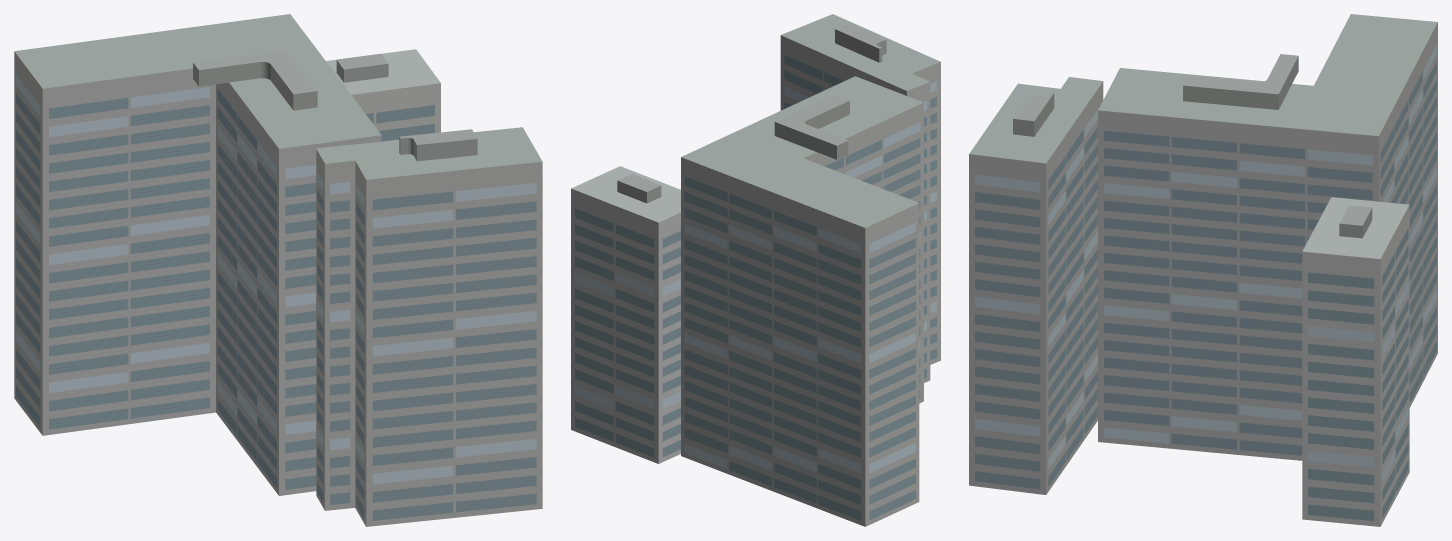
Rendered from apt-a15882104.glb.
3 views of the same model, side by side, from view 1: azimuth 30°, elevation 25°; view 2: azimuth 150°, elevation 25°; view 3: azimuth 270°, elevation 25° (orthographic). The views are drawn at different scales.
Parts seen in each view (by area): view 1: apt-a15882104; view 2: apt-a15882104; view 3: apt-a15882104.
Boxes of the visible parts, left/top/right/bottom form: apt-a15882104: left=14, top=14, right=542, bottom=526; apt-a15882104: left=571, top=14, right=940, bottom=526; apt-a15882104: left=969, top=14, right=1437, bottom=526.
Size of the model in its own units: 58.23 by 52 by 63.61.
